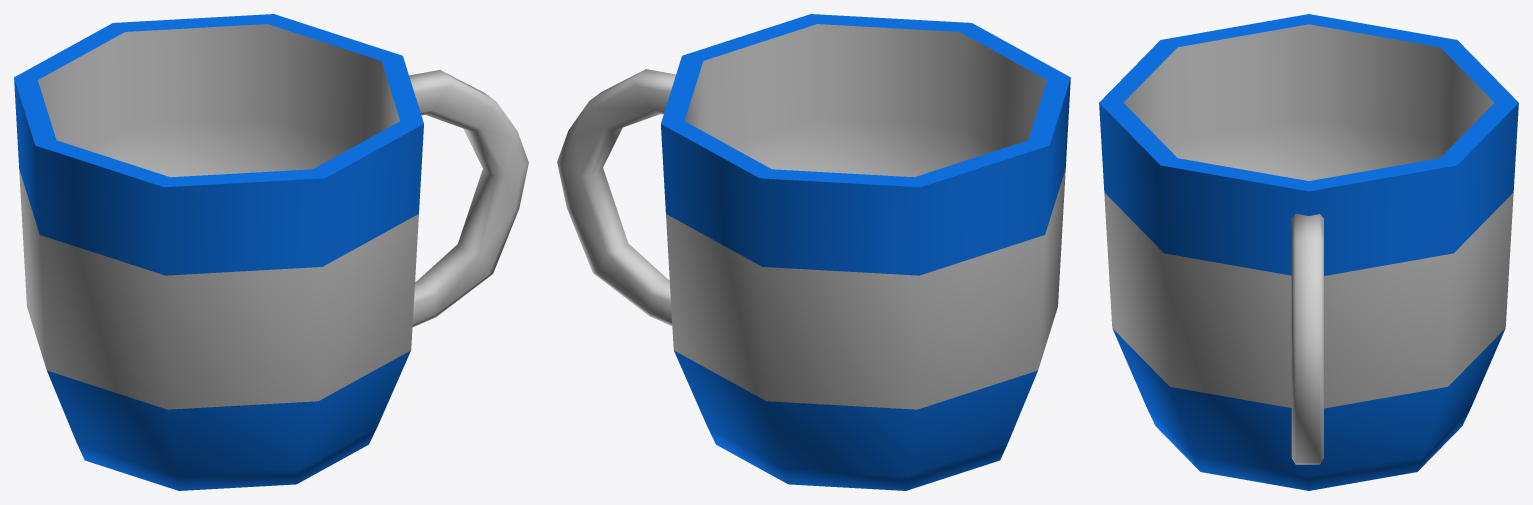
File: Coffee_Cup_14.FBX
The picture shows the model from 3 angles, left to right: view 1: azimuth 30°, elevation 25°; view 2: azimuth 150°, elevation 25°; view 3: azimuth 270°, elevation 25°; orthographic projection.
Visible parts, largest first — view 1: Coffee Cup; view 2: Coffee Cup; view 3: Coffee Cup.
Part boxes in pixels (x1,y1,x2,y2): Coffee Cup: [14, 14, 528, 490]; Coffee Cup: [557, 14, 1070, 490]; Coffee Cup: [1099, 14, 1518, 490].
Bounding box in the file's own units: 44.01 × 28.24 × 33.22.
